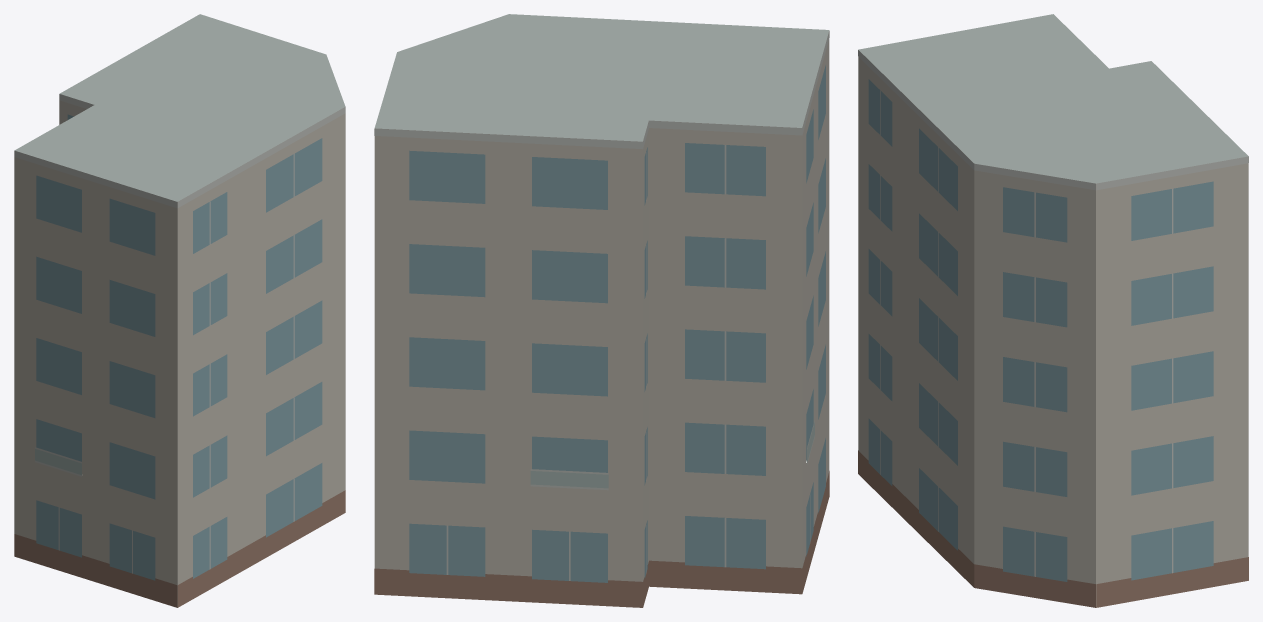
File: survey-upis-32862899.glb
3 views of the same model, side by side, from view 1: azimuth 30°, elevation 25°; view 2: azimuth 150°, elevation 25°; view 3: azimuth 270°, elevation 25° (orthographic). The views are drawn at different scales.
Visible parts, largest first — view 1: survey-upis-32862899.tmp; view 2: survey-upis-32862899.tmp; view 3: survey-upis-32862899.tmp.
Part boxes in pixels (bbox=[...]): survey-upis-32862899.tmp: bbox=[14, 14, 345, 607]; survey-upis-32862899.tmp: bbox=[374, 14, 829, 607]; survey-upis-32862899.tmp: bbox=[858, 14, 1248, 607].
Size of the model in its own units: 13.08 by 15.25 by 12.74.
